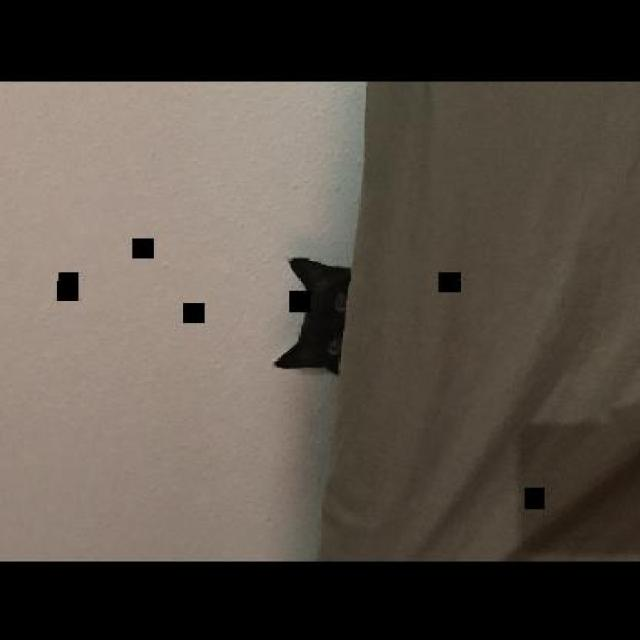unauthorized: (272, 256, 351, 376)
